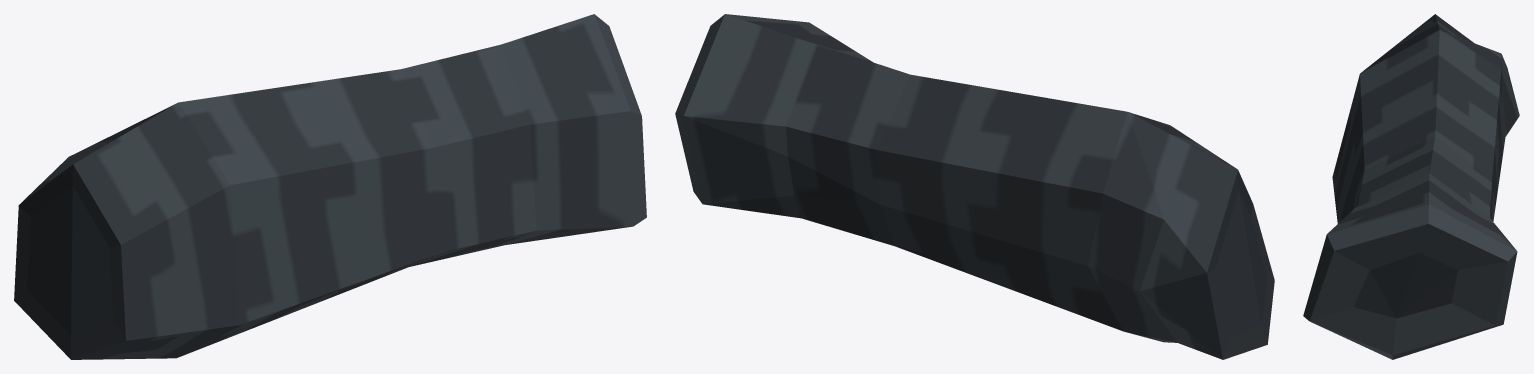
The model's file is Chr_ArmLowerLeft_Female_17_Static.fbx.
3 renders of one model, left to right at view 1: azimuth 30°, elevation 25°; view 2: azimuth 150°, elevation 25°; view 3: azimuth 270°, elevation 25°, orthographic. The views are drawn at different scales.
Parts seen in each view (by area): view 1: Chr_ArmLowerLeft_Female_17_Static; view 2: Chr_ArmLowerLeft_Female_17_Static; view 3: Chr_ArmLowerLeft_Female_17_Static.
Part boxes in pixels (box(x1,y1,x2,y2)): Chr_ArmLowerLeft_Female_17_Static: box(14, 14, 646, 359); Chr_ArmLowerLeft_Female_17_Static: box(675, 14, 1274, 359); Chr_ArmLowerLeft_Female_17_Static: box(1303, 14, 1519, 359).
Size of the model in its own units: 0.2969 by 0.1221 by 0.1191.
